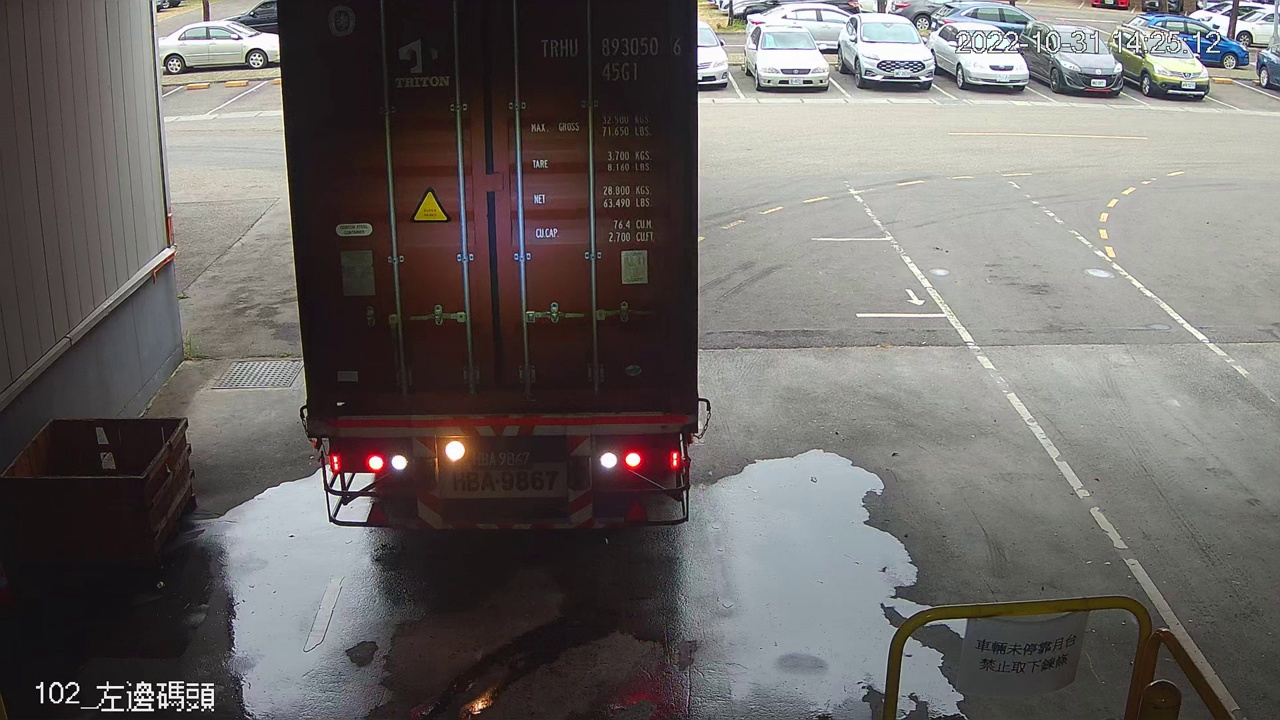container: (533, 29, 688, 88)
